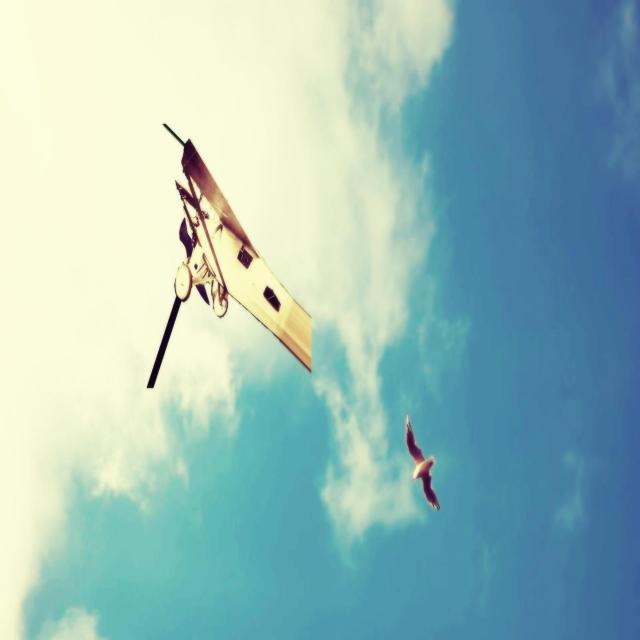airplane: (146, 121, 312, 389)
